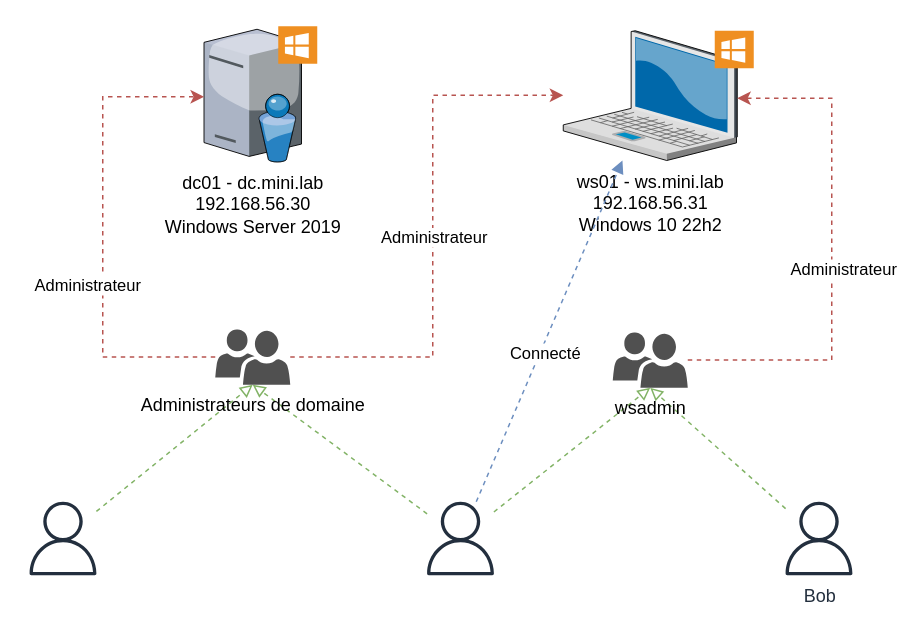
Some shapes in this 921 by 632 pixel diagram are drawn without their labels. Each missing label, with the centre of its shape:
"Alice" belongs at point 62,537.
"Carol" belongs at point 459,537.
